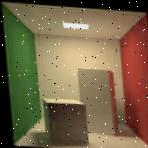cube: (41, 96, 87, 145)
